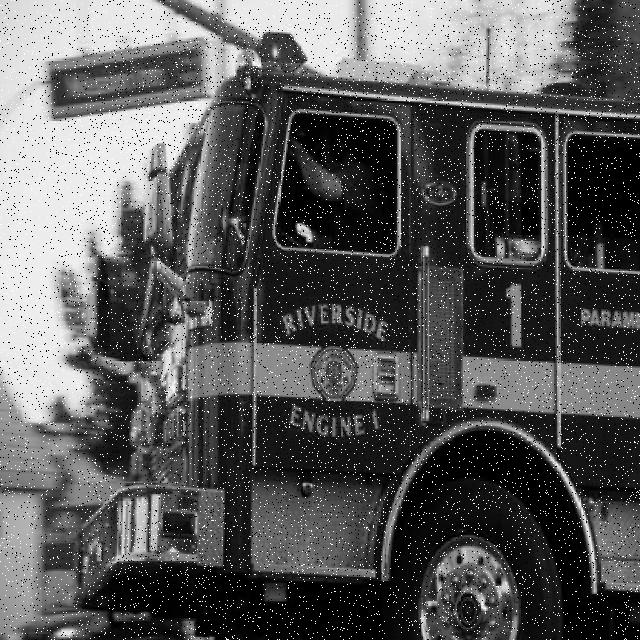Fire Truck: (76, 29, 640, 640)
